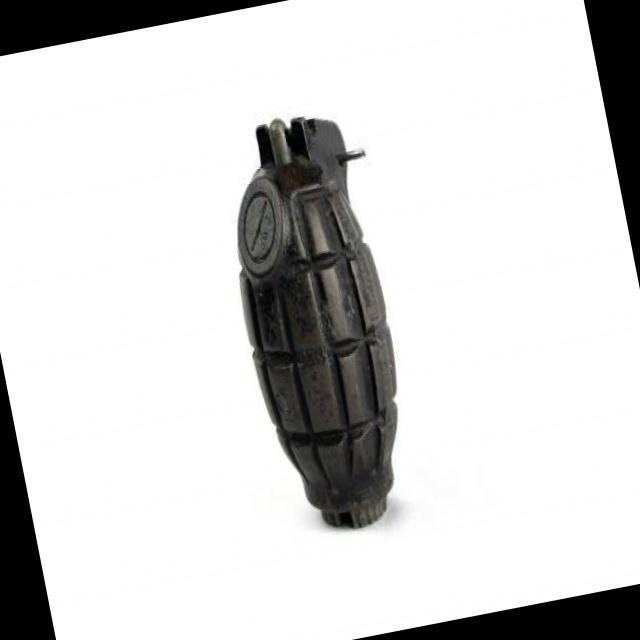grenade: (197, 95, 435, 545)
